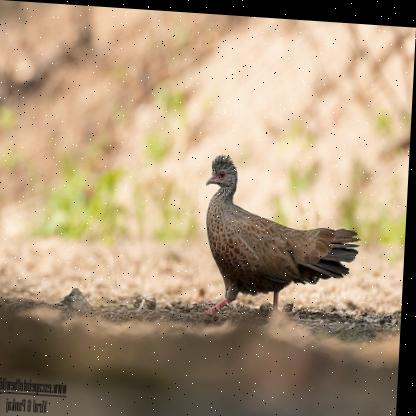Burung: (204, 152, 364, 325)
